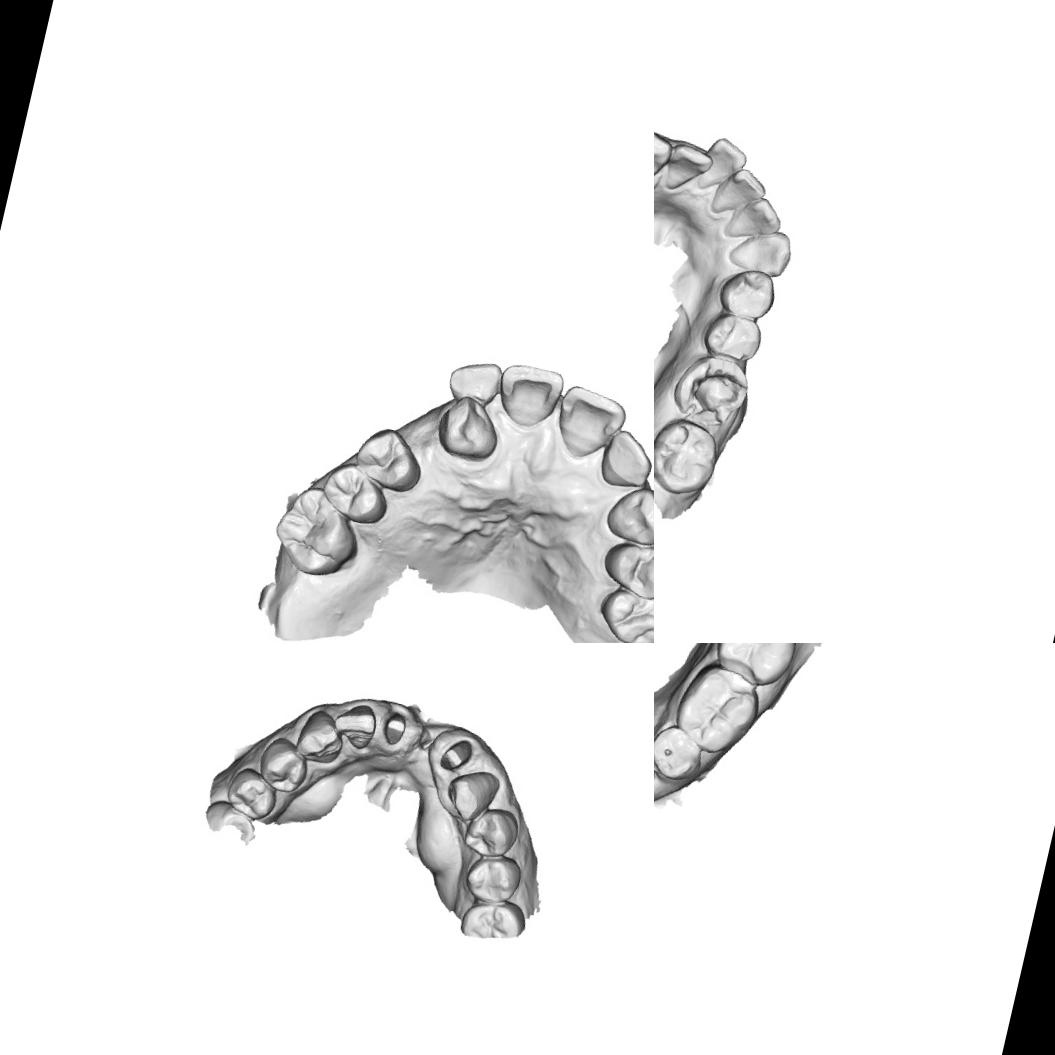canine: (428, 389, 510, 468), (725, 219, 798, 284), (596, 479, 654, 554), (440, 763, 504, 829), (290, 704, 350, 770), (654, 121, 678, 193)
crown: (434, 733, 477, 778), (378, 706, 412, 750)
incisor: (549, 379, 630, 466), (490, 355, 570, 435), (441, 349, 507, 415), (658, 131, 718, 202), (707, 161, 772, 225), (720, 190, 788, 249), (597, 421, 654, 491), (696, 133, 751, 205), (327, 696, 383, 754)
molar: (266, 479, 374, 588), (667, 658, 767, 765), (664, 346, 759, 440), (654, 412, 725, 503), (703, 643, 808, 695), (458, 890, 531, 946)
premolar: (347, 418, 430, 498), (709, 260, 790, 340), (316, 457, 396, 528), (696, 306, 770, 374), (457, 799, 525, 865), (218, 761, 284, 827), (458, 846, 526, 909), (588, 580, 654, 643), (252, 732, 315, 798), (654, 720, 711, 788), (599, 537, 654, 601)
